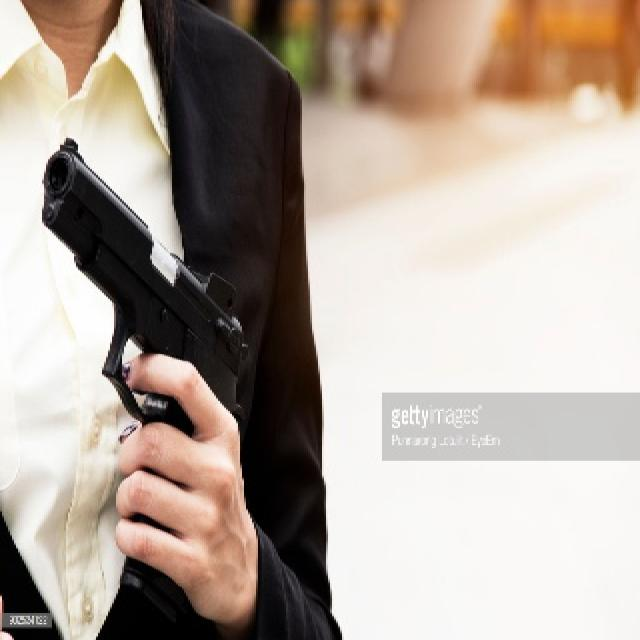handgun: (37, 133, 257, 458)
